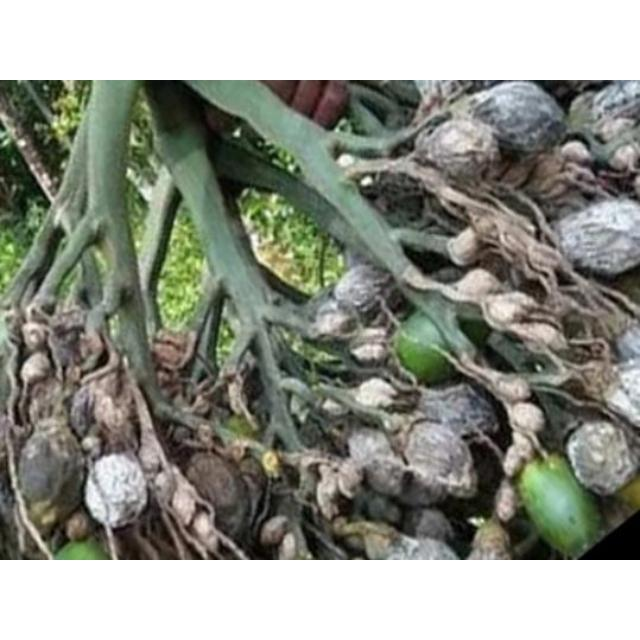damaged: (464, 81, 564, 155), (397, 419, 478, 503), (554, 197, 640, 275), (18, 427, 82, 517), (565, 419, 637, 497), (415, 119, 497, 185), (359, 168, 441, 230), (418, 386, 500, 444), (396, 311, 462, 383), (118, 513, 202, 561), (332, 261, 398, 319), (66, 227, 108, 316), (5, 485, 50, 561), (47, 311, 95, 374), (604, 352, 640, 434), (91, 386, 137, 446), (310, 297, 362, 343), (24, 382, 68, 436), (586, 82, 640, 126), (362, 455, 412, 501), (551, 152, 601, 198), (232, 453, 270, 511), (466, 246, 518, 286), (68, 383, 104, 437), (152, 332, 194, 378), (346, 324, 394, 364), (405, 506, 455, 544), (467, 520, 513, 560), (352, 376, 401, 412), (234, 361, 266, 415), (451, 267, 501, 301), (292, 410, 332, 452), (275, 516, 313, 560), (520, 242, 564, 280), (484, 293, 532, 327), (391, 536, 459, 560), (512, 320, 566, 350), (548, 186, 590, 224), (110, 525, 152, 561), (596, 116, 638, 150), (448, 227, 484, 265), (276, 376, 316, 409), (0, 469, 18, 538), (170, 482, 198, 526), (360, 494, 400, 524), (413, 82, 465, 105), (458, 80, 528, 96), (137, 436, 165, 476), (494, 374, 534, 402), (509, 402, 546, 432), (20, 352, 52, 386), (360, 528, 394, 560), (562, 314, 596, 346), (378, 80, 422, 104), (258, 516, 292, 546), (337, 464, 365, 500), (471, 213, 504, 243), (151, 468, 177, 504), (610, 143, 640, 173), (21, 322, 49, 351), (1, 414, 17, 464), (540, 178, 572, 200), (430, 266, 466, 284), (342, 530, 368, 552), (195, 422, 217, 448), (319, 398, 347, 418), (382, 414, 406, 434), (332, 518, 356, 538), (170, 426, 192, 446)
